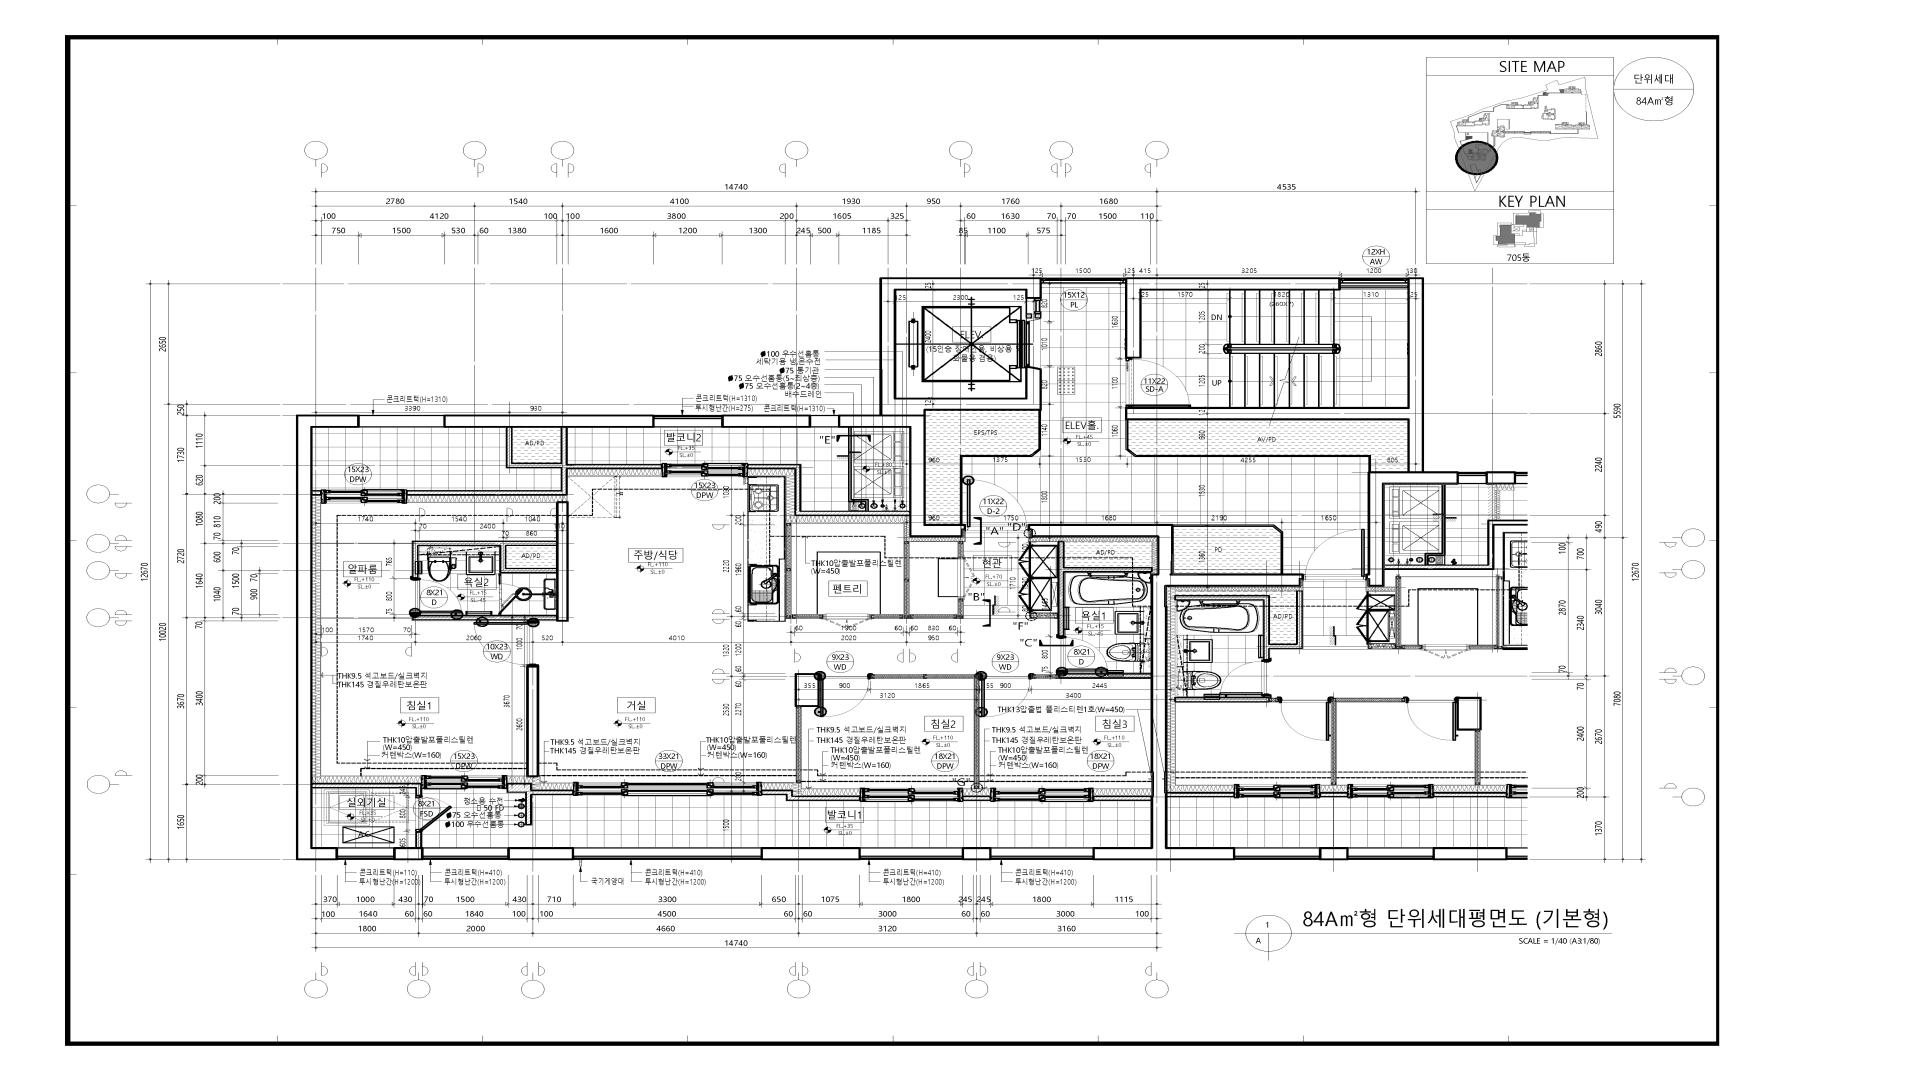door: (965, 475, 1029, 538), (1126, 359, 1191, 407), (472, 620, 539, 665), (980, 670, 1031, 717), (820, 673, 870, 716), (409, 578, 464, 615), (1056, 638, 1108, 673), (415, 795, 452, 832), (498, 584, 533, 615), (957, 558, 976, 599), (824, 613, 870, 626)
wall: (1027, 524, 1304, 860), (1125, 277, 1424, 473), (295, 414, 360, 860), (880, 278, 1042, 415), (407, 427, 662, 496), (1125, 277, 1341, 357), (839, 414, 965, 537), (870, 674, 980, 789), (1058, 542, 1153, 638), (748, 464, 910, 516), (870, 542, 964, 618), (411, 541, 556, 578), (786, 524, 824, 618), (443, 414, 654, 427), (508, 783, 572, 825), (526, 665, 539, 777), (313, 783, 422, 796), (556, 501, 568, 621), (761, 847, 861, 860), (721, 414, 811, 427), (762, 790, 860, 802), (508, 847, 574, 860), (413, 615, 556, 620), (1058, 673, 1151, 679), (795, 707, 802, 783), (393, 847, 423, 860), (963, 847, 992, 860), (1093, 795, 1151, 800), (1030, 612, 1058, 618), (963, 795, 990, 800), (1031, 674, 1059, 679), (957, 542, 964, 558), (415, 832, 422, 847), (313, 491, 320, 496), (498, 574, 501, 584)
window: (572, 781, 762, 796), (574, 847, 761, 860), (860, 787, 963, 802), (990, 787, 1093, 802), (992, 847, 1093, 860), (320, 489, 407, 504), (422, 775, 508, 790), (662, 463, 748, 477), (861, 848, 963, 860), (423, 847, 508, 860), (360, 415, 443, 427), (1341, 277, 1408, 290), (1042, 277, 1125, 287), (654, 415, 721, 427), (338, 848, 393, 860), (811, 415, 839, 427)
